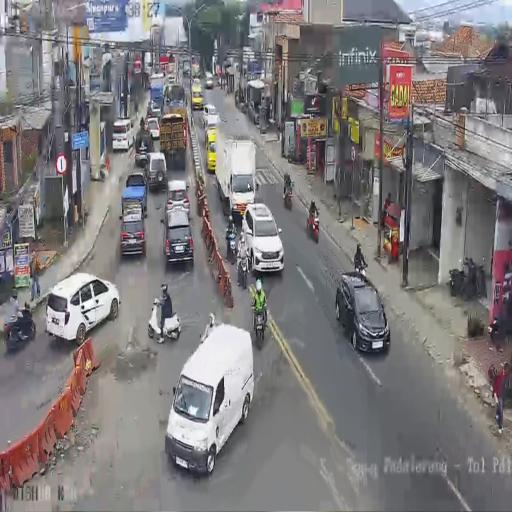3: (215, 135, 256, 222), (159, 110, 187, 170), (164, 80, 186, 112), (150, 72, 165, 111), (192, 63, 200, 78)
car: (164, 323, 254, 474), (44, 272, 120, 343), (335, 271, 390, 353), (240, 201, 284, 274), (164, 213, 194, 265), (489, 276, 512, 339), (120, 204, 146, 256), (165, 179, 190, 220), (124, 171, 148, 212), (146, 150, 168, 192), (112, 116, 133, 152), (202, 102, 221, 129), (145, 116, 161, 144), (206, 129, 216, 173), (191, 80, 203, 110), (183, 63, 191, 77), (205, 76, 213, 89)
truck: (148, 293, 182, 342), (251, 295, 267, 346), (226, 226, 238, 265), (306, 206, 319, 242), (283, 181, 293, 210), (241, 100, 247, 115)
